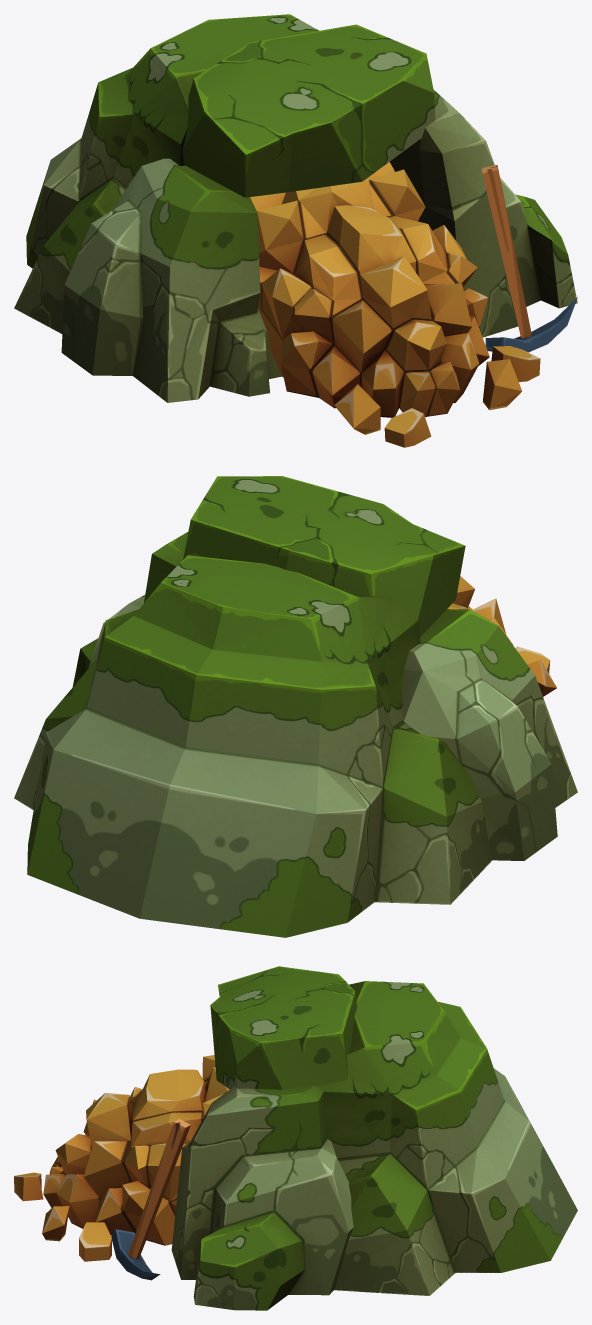
The model's file is building_09.FBX.
3 renders of one model, top to bottom at view 1: azimuth 30°, elevation 25°; view 2: azimuth 150°, elevation 25°; view 3: azimuth 270°, elevation 25°, orthographic. The views are drawn at different scales.
Parts seen in each view (by area): view 1: Box008; view 2: Box008; view 3: Box008.
Part boxes in pixels (x1=…): Box008: x1=14, y1=14, x2=577, y2=447; Box008: x1=14, y1=476, x2=577, y2=937; Box008: x1=14, y1=966, x2=577, y2=1310.
Bounding box in the file's own units: 660 × 354 × 829.
